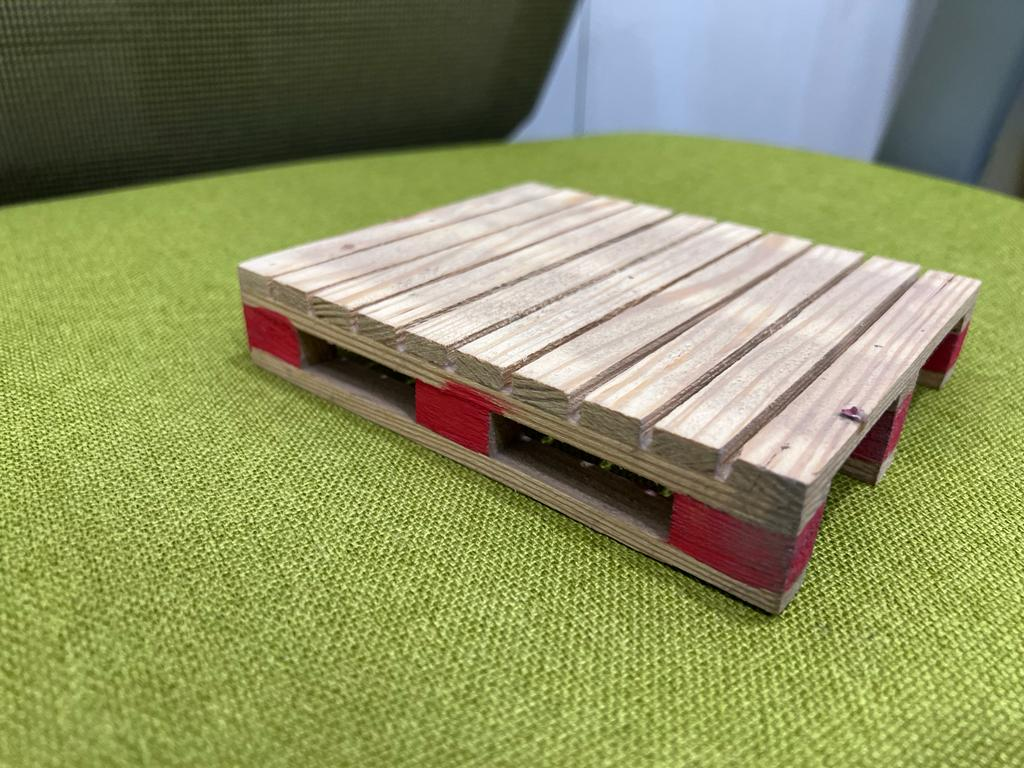pallet: (212, 181, 987, 628)
